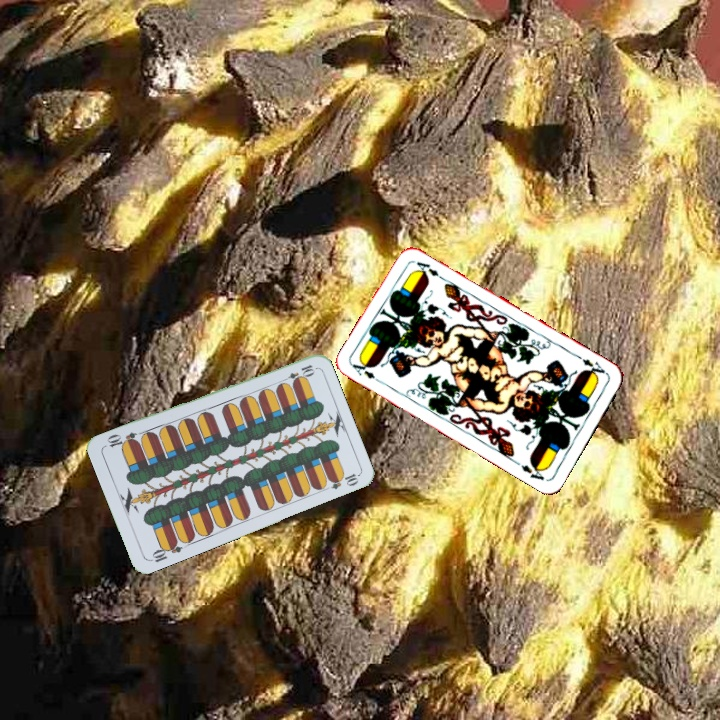E10: (146, 537, 185, 565), (278, 360, 317, 386)
EA: (348, 357, 386, 386), (573, 351, 610, 380)
